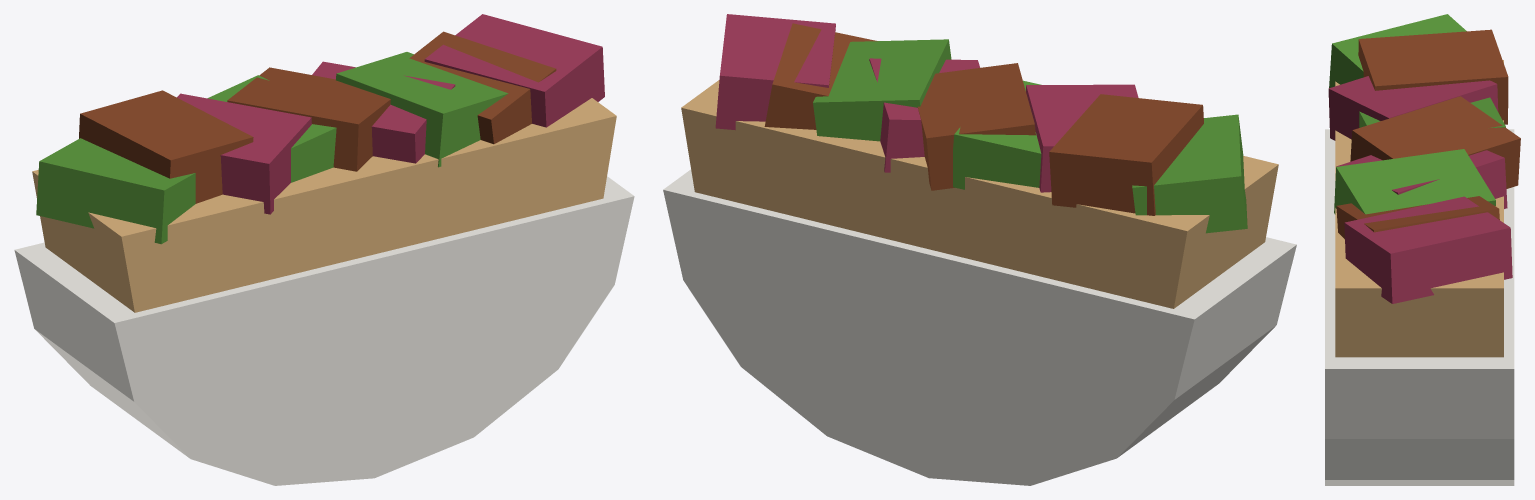
The model's file is kebab.glb.
3 renders of one model, left to right at view 1: azimuth 30°, elevation 25°; view 2: azimuth 150°, elevation 25°; view 3: azimuth 270°, elevation 25°, orthographic. The views are drawn at different scales.
Parts seen in each view (by area): view 1: kebab; view 2: kebab; view 3: kebab.
Part boxes in pixels (x1,y1,x2,y2): kebab: [14, 14, 634, 485]; kebab: [663, 14, 1296, 485]; kebab: [1325, 14, 1520, 485].
Bounding box in the file's own units: 0.1748 × 0.1081 × 0.058.
